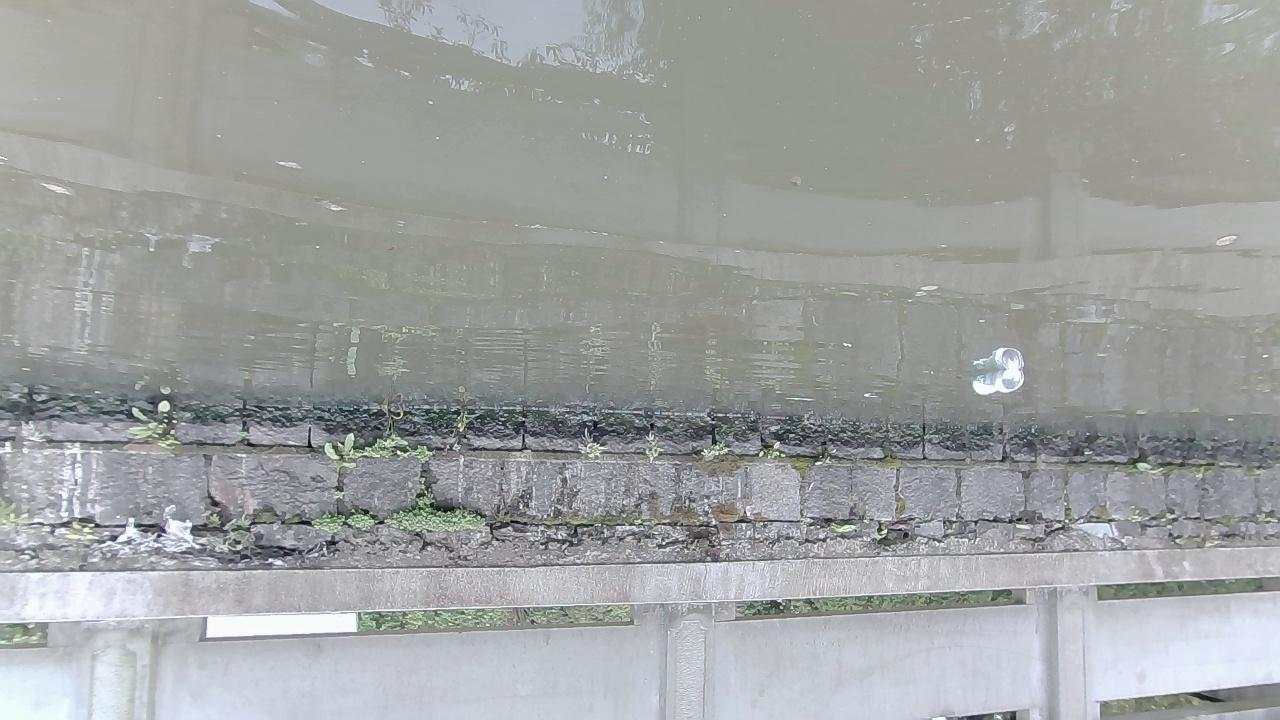Metal: (971, 366, 1025, 396)
